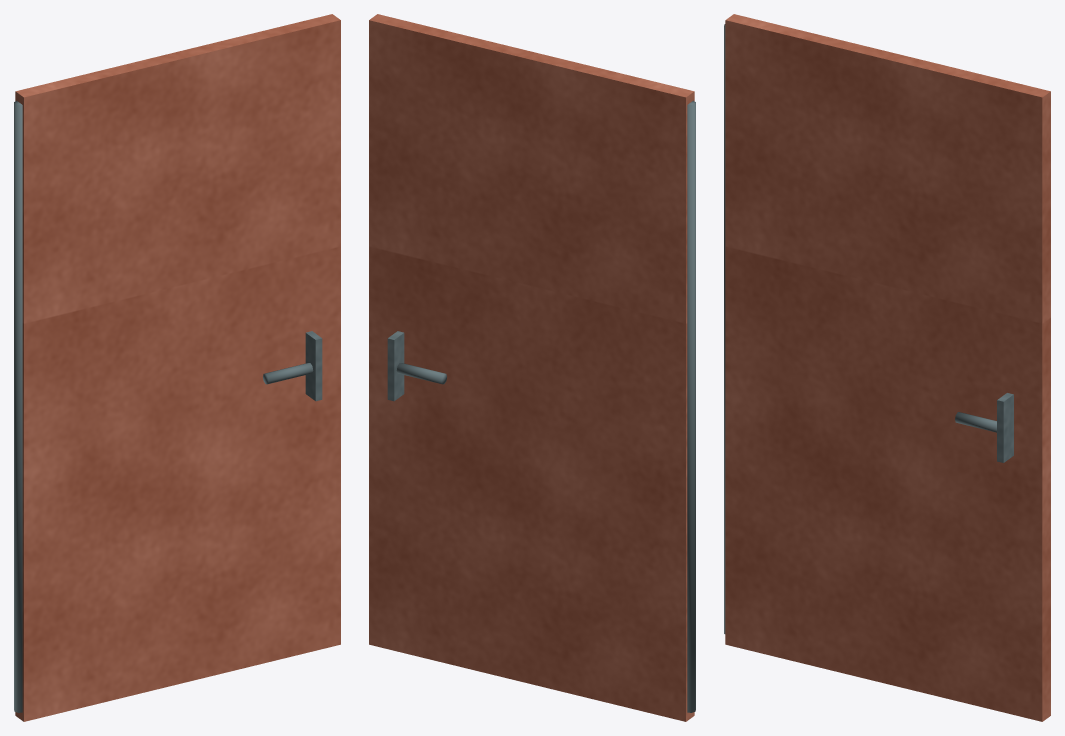
File: Fire_Door_Leaf.glb
The picture shows the model from 3 angles, left to right: view 1: azimuth 30°, elevation 25°; view 2: azimuth 150°, elevation 25°; view 3: azimuth 330°, elevation 25°; orthographic projection.
Visible parts, largest first — view 1: VIS_Fire_Door_leaf_0000, VIS_Fire_Door_hingeaxis_0005, VIS_Fire_Door_handle_back_0003, VIS_Fire_Door_handle_0004; view 2: VIS_Fire_Door_leaf_0000, VIS_Fire_Door_hingeaxis_0005, VIS_Fire_Door_handle_back_0001, VIS_Fire_Door_handle_0002; view 3: VIS_Fire_Door_leaf_0000, VIS_Fire_Door_hingeaxis_0005, VIS_Fire_Door_handle_back_0003.
Boxes of the visible parts, x1,y1,x2,y2 form: VIS_Fire_Door_leaf_0000: (15,14,340,721); VIS_Fire_Door_hingeaxis_0005: (14,100,22,712); VIS_Fire_Door_handle_back_0003: (305,331,322,401); VIS_Fire_Door_handle_0004: (263,363,313,384); VIS_Fire_Door_leaf_0000: (369,14,694,721); VIS_Fire_Door_hingeaxis_0005: (687,100,695,712); VIS_Fire_Door_handle_back_0001: (387,331,404,401); VIS_Fire_Door_handle_0002: (396,363,446,384); VIS_Fire_Door_leaf_0000: (725,14,1050,721); VIS_Fire_Door_hingeaxis_0005: (724,24,725,633); VIS_Fire_Door_handle_back_0003: (997,393,1013,462).
Size of the model in its own units: 1.21 by 2.24 by 0.186.
Materials: 2 (2 with a texture image).
